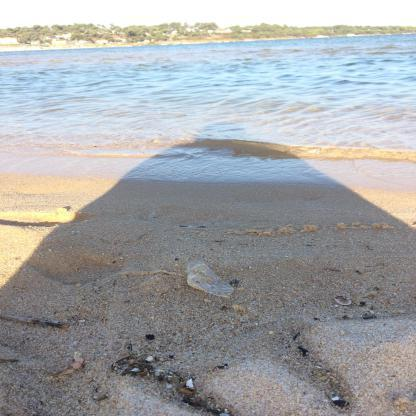plastik: (187, 262, 237, 298)
